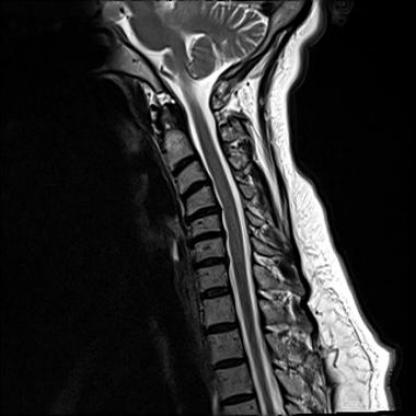Disc Protrusionrotation: (176, 181, 213, 200), (187, 229, 226, 245), (192, 255, 230, 271), (185, 206, 219, 223)
